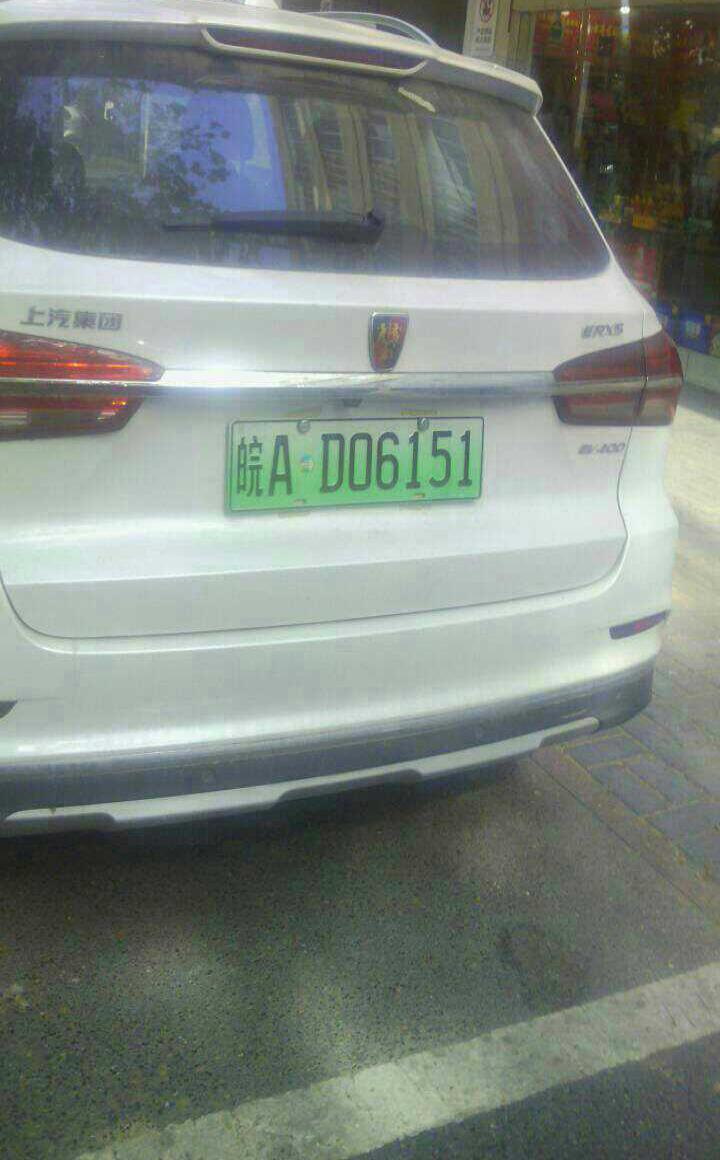car: (221, 416, 496, 499)
